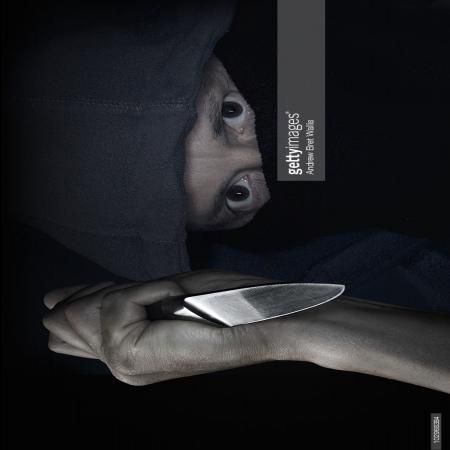long weapon: (36, 276, 355, 357)
